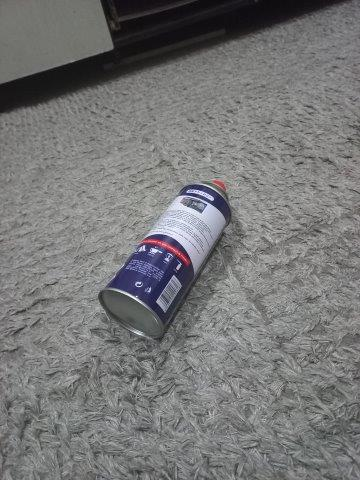kaleng: (98, 180, 233, 342)
